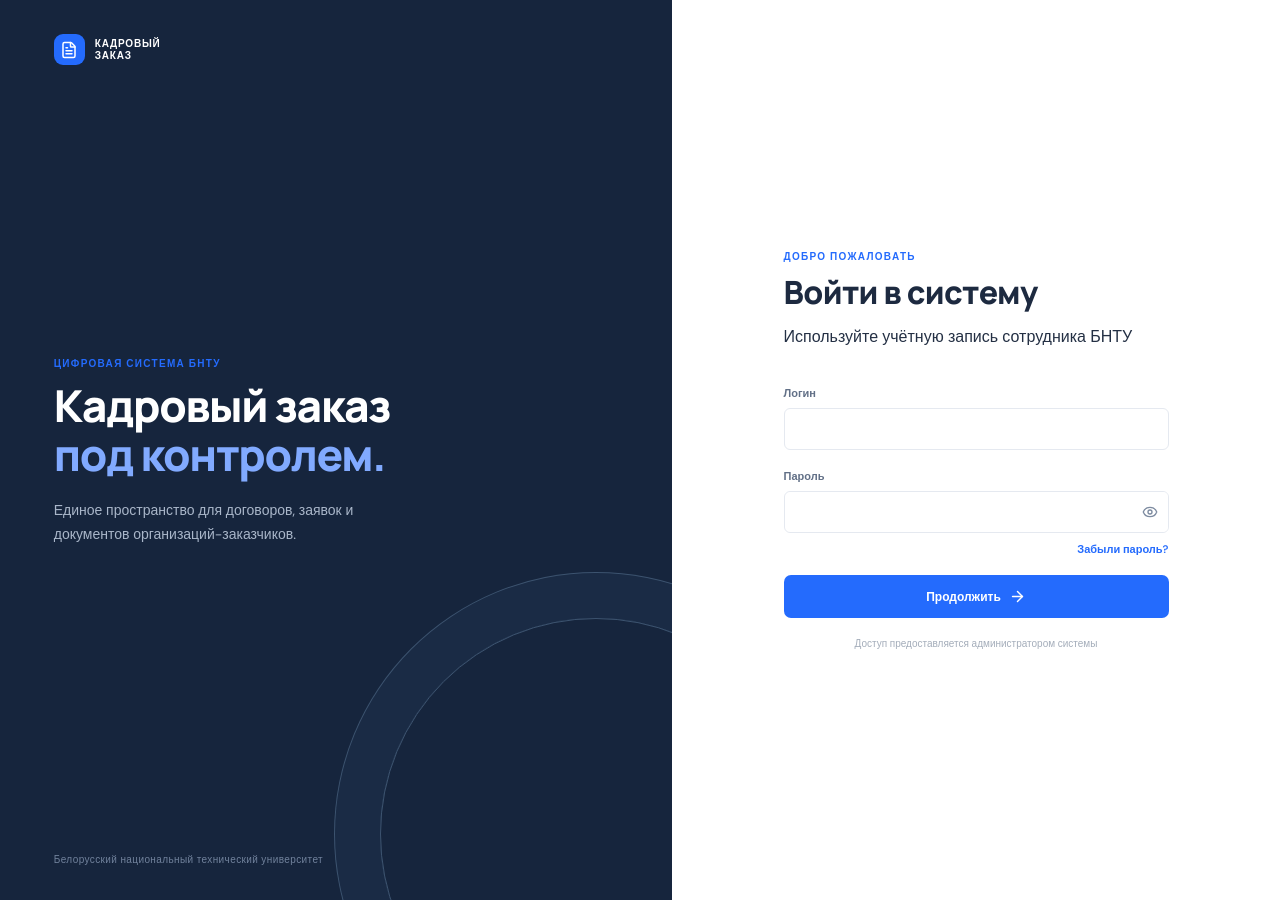
Test: server session and routes under /app › logs in using server data and routes with flag true
The width and height of the screenshot is (1280, 900).
Type "employee" into the field labelled "Логин" at (976,429), box x1=784 y1=408 x2=1168 y2=450
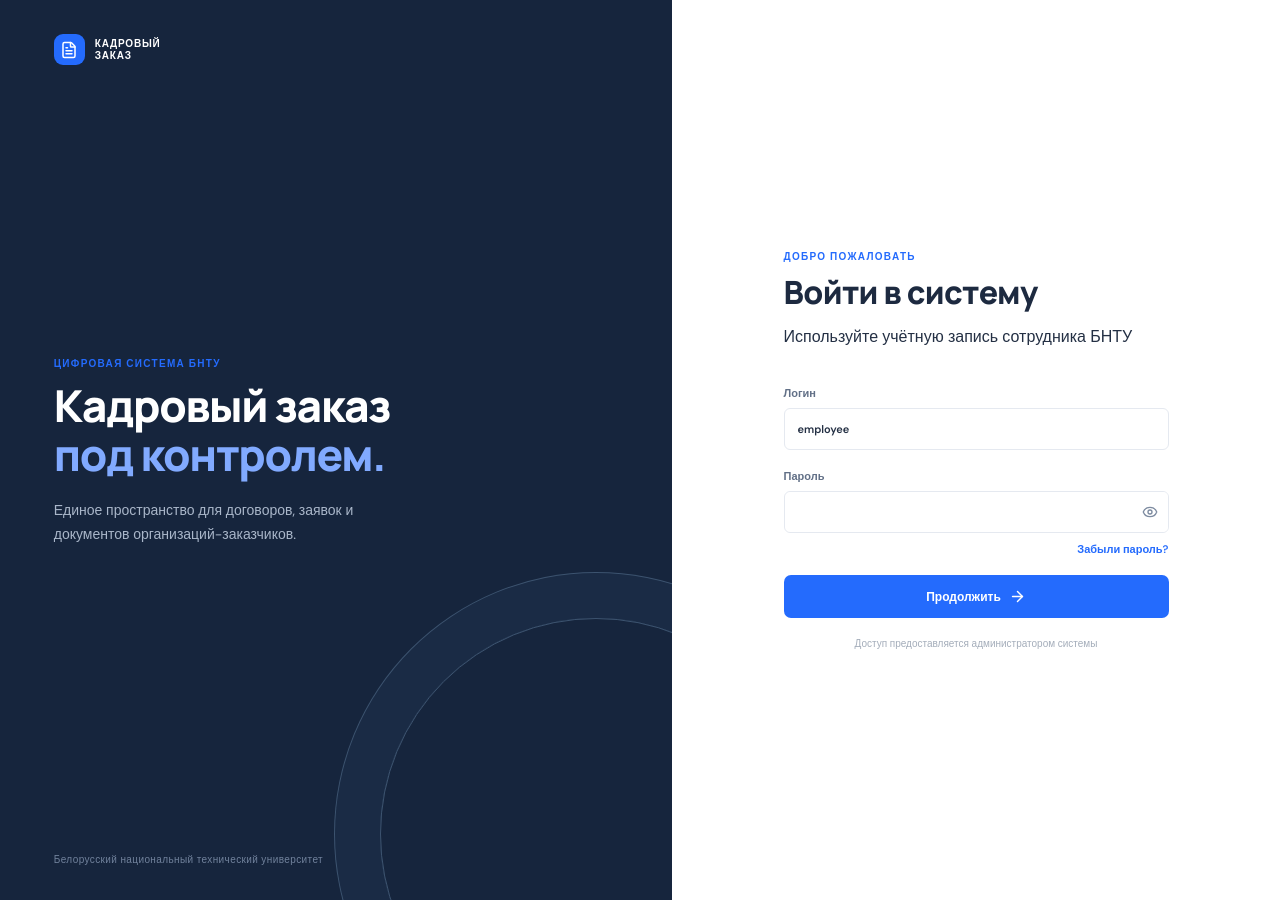
Type "secret-password" into the password field labelled "Пароль" at (958,512), box x1=784 y1=492 x2=1132 y2=532
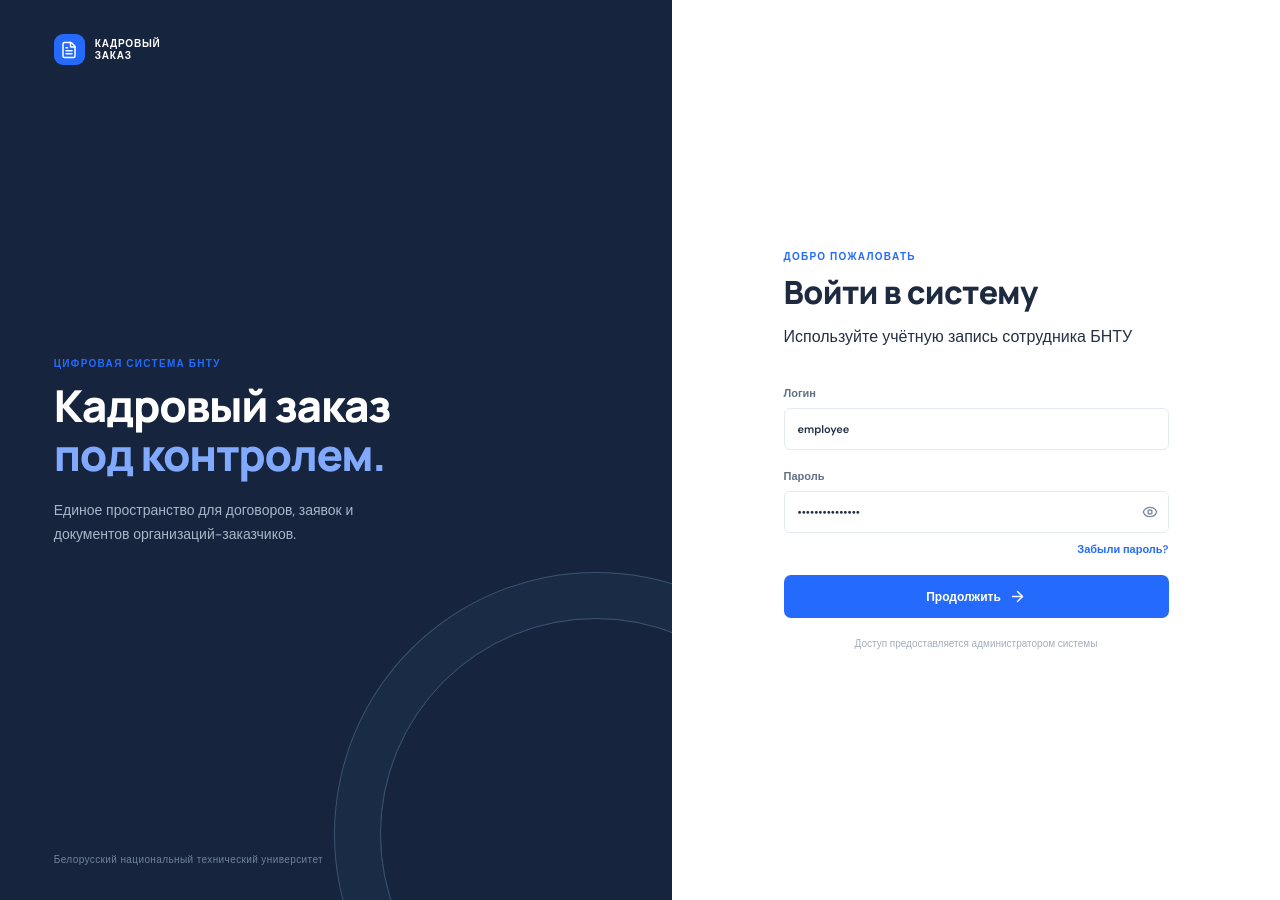
Click the button "Продолжить" at (976,597), box x1=784 y1=575 x2=1168 y2=618
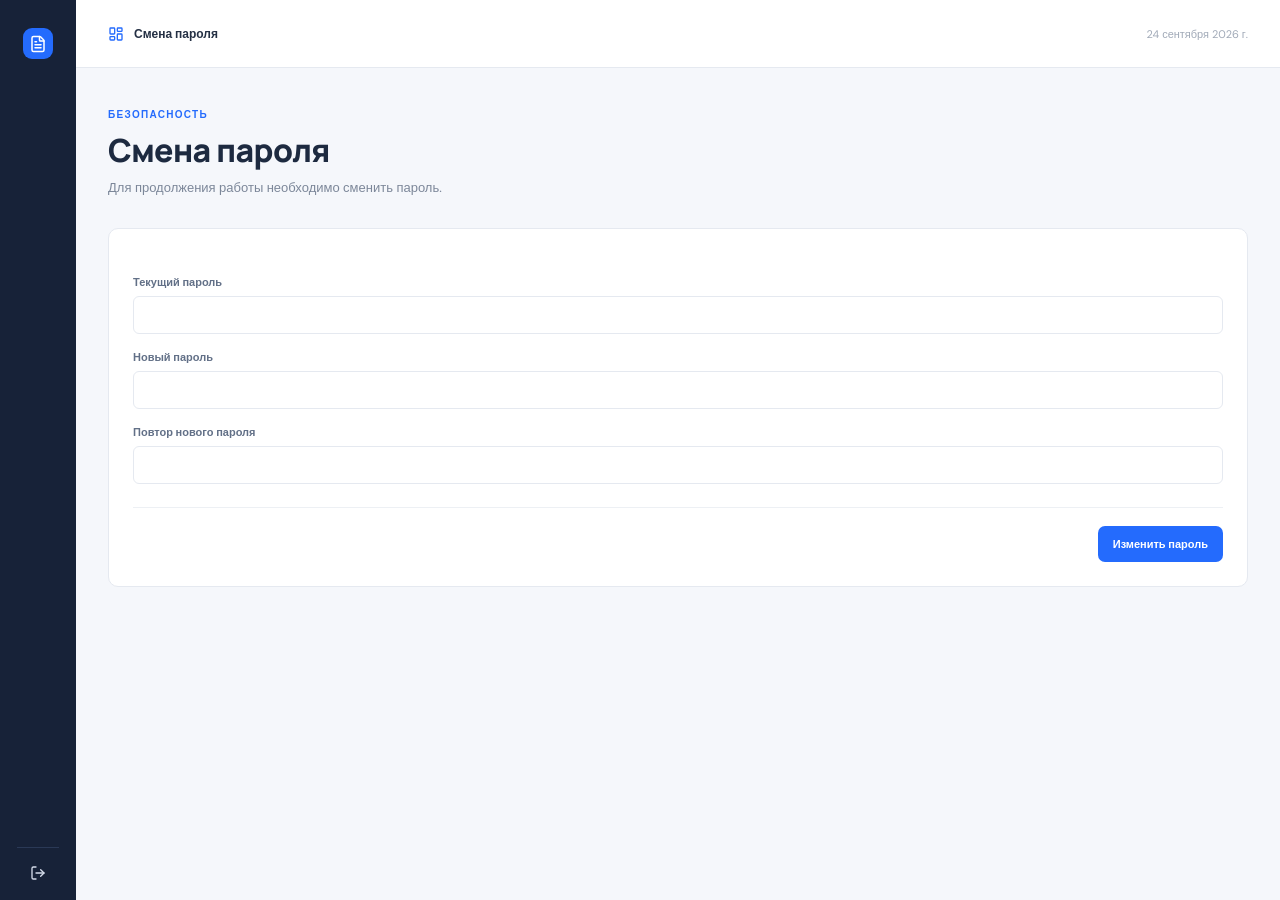
Expected: the heading "Смена пароля" is shown, x1=108 y1=128 x2=330 y2=172
